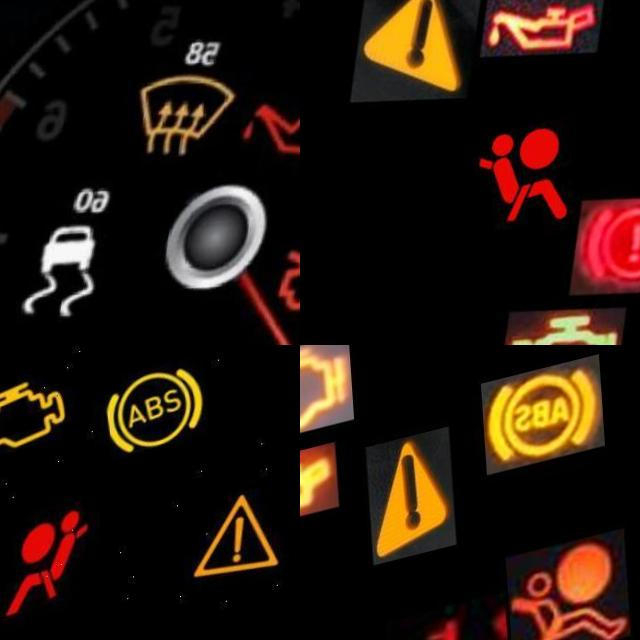Central Warning lamp: (340, 0, 487, 139), (363, 447, 452, 581)
Engine cooling system: (381, 613, 504, 640)
